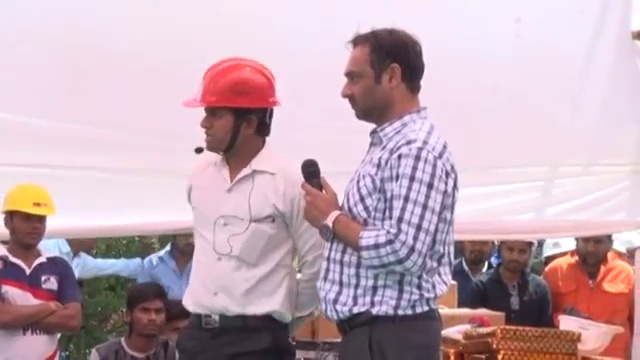helmet: (180, 55, 288, 114), (555, 312, 627, 357), (0, 185, 55, 219), (538, 237, 578, 264)
helmet_off: (342, 27, 430, 132), (125, 285, 171, 343), (498, 238, 538, 276), (578, 231, 613, 265), (164, 232, 195, 266), (463, 234, 493, 269), (63, 237, 99, 258)
helmet_on: (177, 57, 287, 171), (0, 187, 56, 262)
person: (300, 11, 476, 353), (175, 53, 325, 360), (0, 178, 88, 356), (547, 231, 638, 360), (85, 287, 180, 360), (473, 237, 552, 323), (143, 229, 203, 305), (42, 238, 144, 279), (454, 235, 497, 308)
